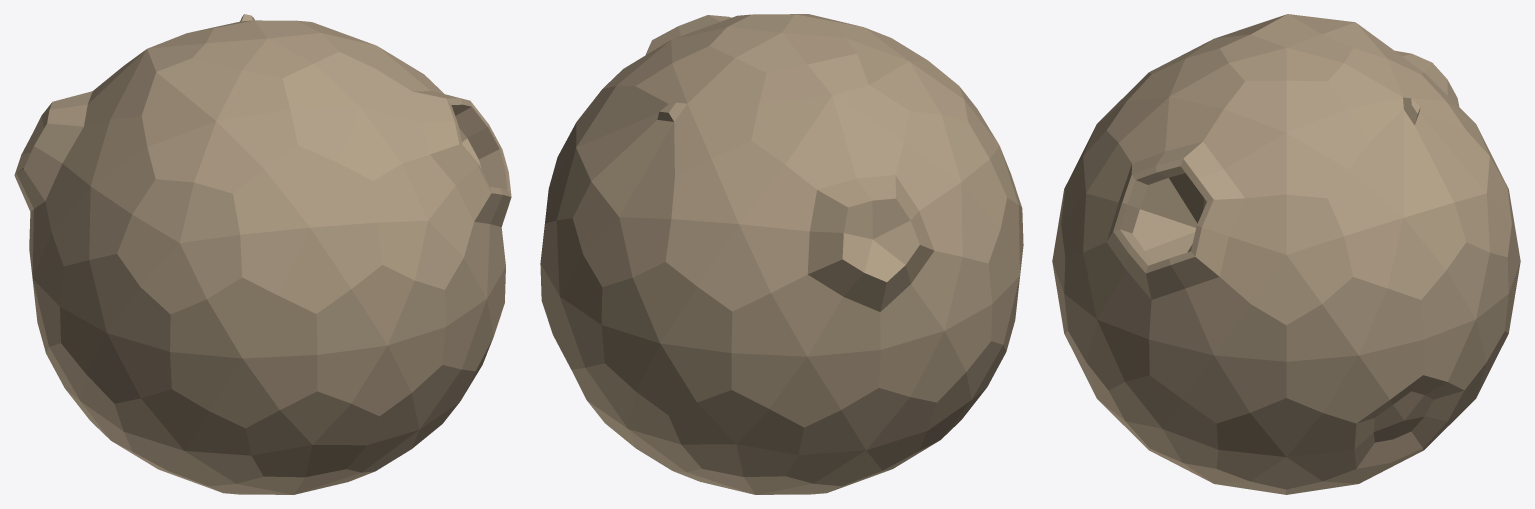
File: Planet02 1.fbx
The picture shows the model from 3 angles, left to right: view 1: azimuth 30°, elevation 25°; view 2: azimuth 150°, elevation 25°; view 3: azimuth 270°, elevation 25°; orthographic projection. The views are drawn at different scales.
Parts seen in each view (by area): view 1: Icosphere.001; view 2: Icosphere.001; view 3: Icosphere.001.
Boxes of the visible parts, left/top/right/bottom form: Icosphere.001: left=14, top=14, right=511, bottom=494; Icosphere.001: left=540, top=14, right=1023, bottom=494; Icosphere.001: left=1052, top=14, right=1520, bottom=494.
Size of the model in its own units: 2066 by 2082 by 2070.
